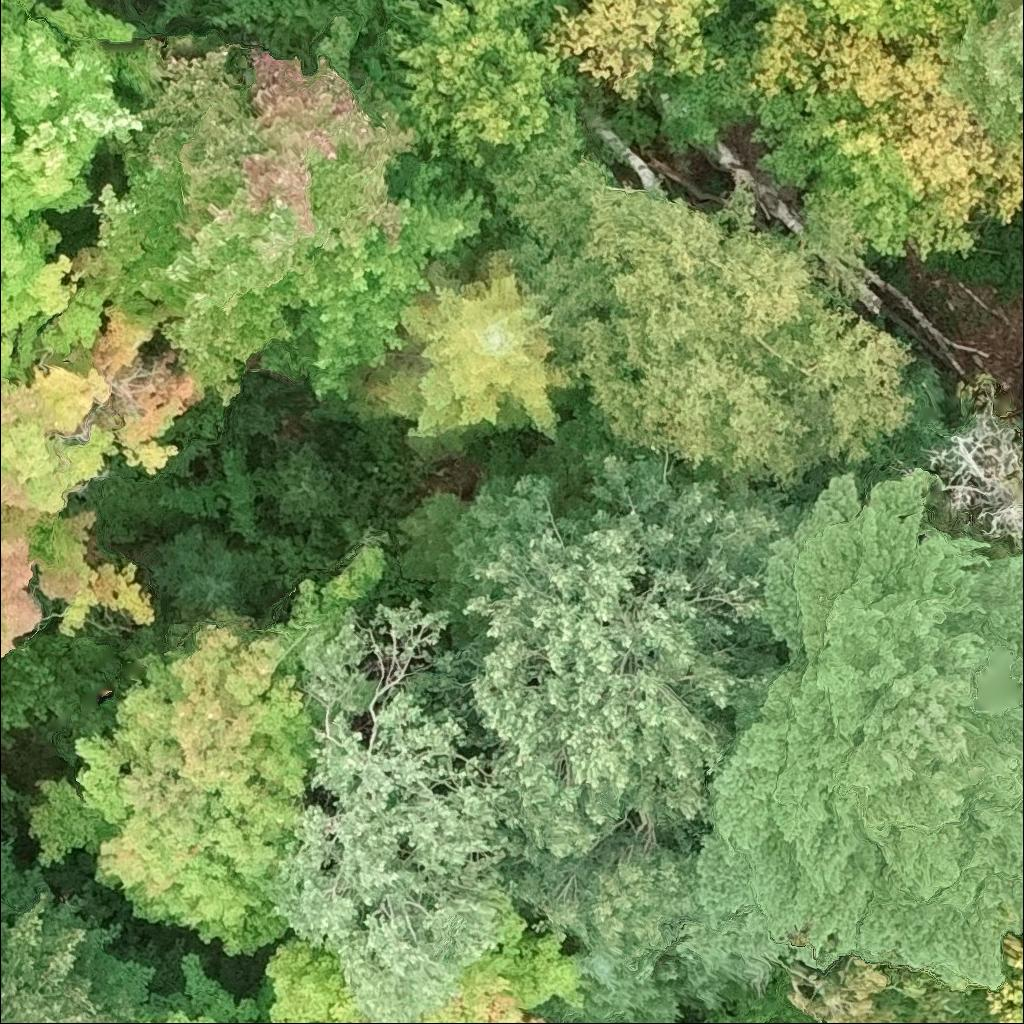crown: (669, 465, 1023, 1012), (459, 96, 918, 487), (464, 446, 786, 957), (93, 13, 492, 410), (22, 543, 386, 956), (258, 597, 524, 1023), (749, 0, 1023, 262), (0, 307, 199, 662), (310, 249, 588, 461), (0, 0, 145, 382), (381, 0, 584, 192), (0, 837, 196, 1023), (415, 894, 588, 1023), (392, 473, 511, 654), (533, 0, 732, 103), (143, 937, 377, 1023), (915, 404, 1023, 551), (539, 932, 704, 1023), (781, 961, 999, 1023), (142, 524, 272, 622), (941, 0, 1023, 149), (250, 433, 362, 532), (804, 0, 975, 45), (990, 935, 1023, 1023)
